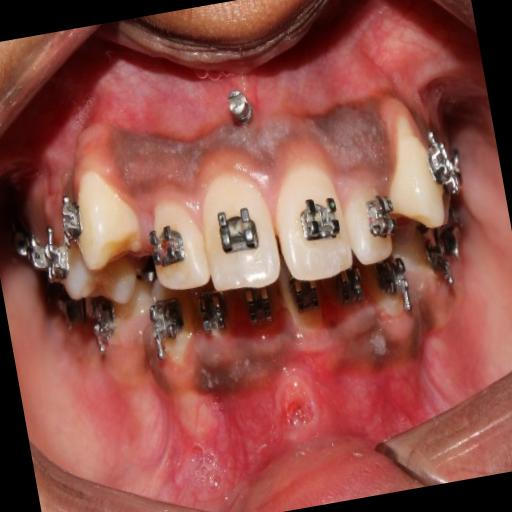correct_brace: (143, 214, 192, 284), (294, 185, 342, 250), (419, 126, 465, 192), (213, 199, 259, 260), (52, 190, 95, 251), (360, 190, 398, 246)
incorrect_brace: (142, 191, 212, 296), (340, 171, 397, 268)
